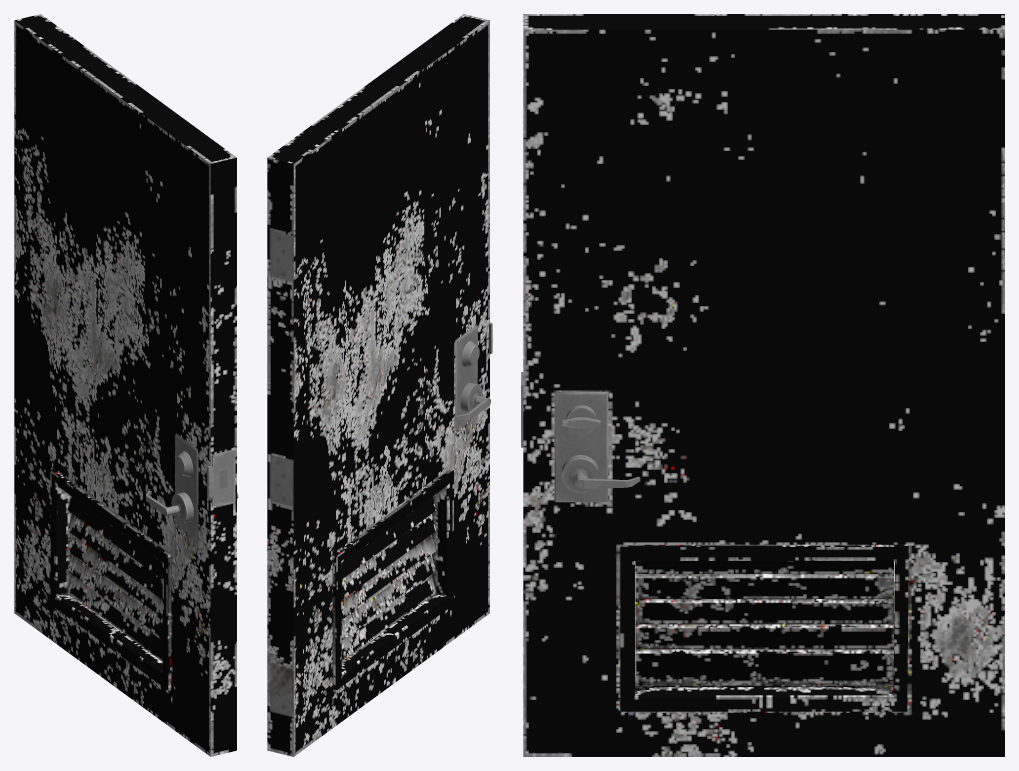
File: Door_A.fbx
3 renders of one model, left to right at view 1: azimuth 30°, elevation 25°; view 2: azimuth 150°, elevation 25°; view 3: azimuth 270°, elevation 25°, orthographic. The views are drawn at different scales.
Visible parts, largest first — view 1: Door_A_LOD0; view 2: Door_A_LOD0; view 3: Door_A_LOD0.
Part boxes in pixels (<box>): Door_A_LOD0: <box>14,14,238,756</box>; Door_A_LOD0: <box>267,14,492,756</box>; Door_A_LOD0: <box>521,14,1004,756</box>.
Size of what is drawn, in the model's own units: 31.46 by 250 by 151.
